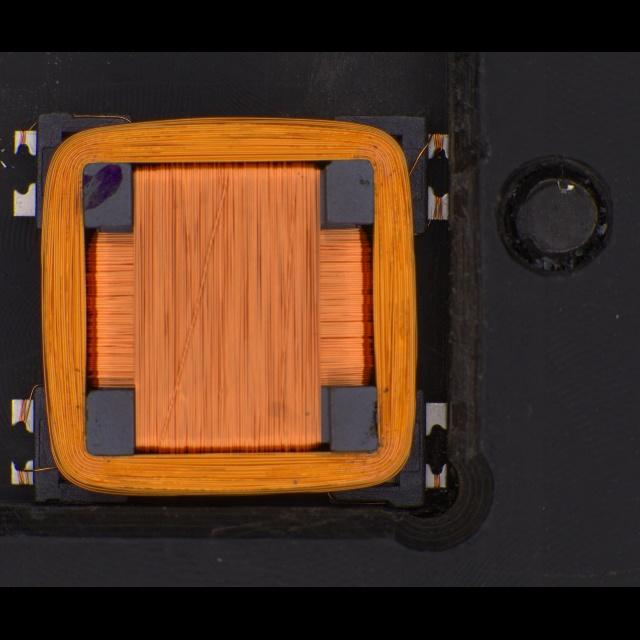Winding_Z: (36, 113, 420, 499)
